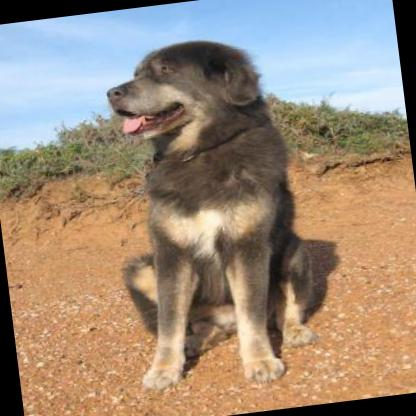Tibetan_mastiff: (91, 26, 315, 398)
